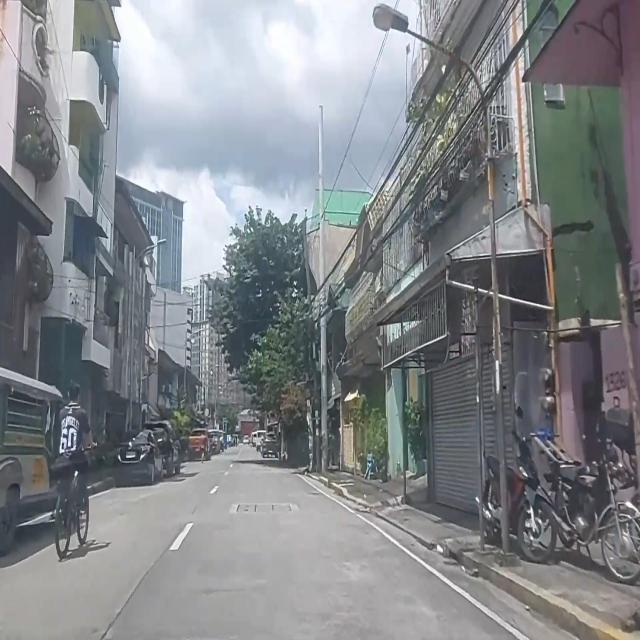bike: (51, 383, 96, 560)
car: (115, 428, 164, 486), (142, 420, 180, 478), (188, 428, 211, 461), (262, 432, 278, 458), (208, 428, 220, 454)
jeepney: (0, 367, 62, 557)
motorcycle: (531, 430, 640, 586), (482, 433, 557, 563)
